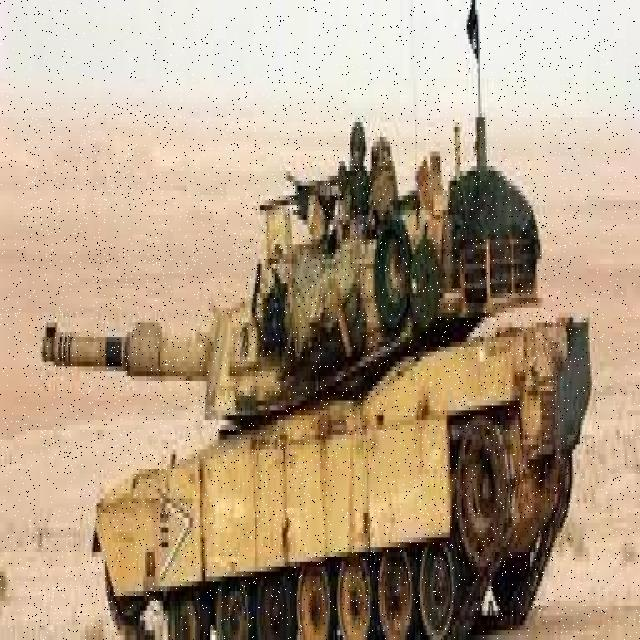MIL_MBT: (23, 103, 572, 620)
